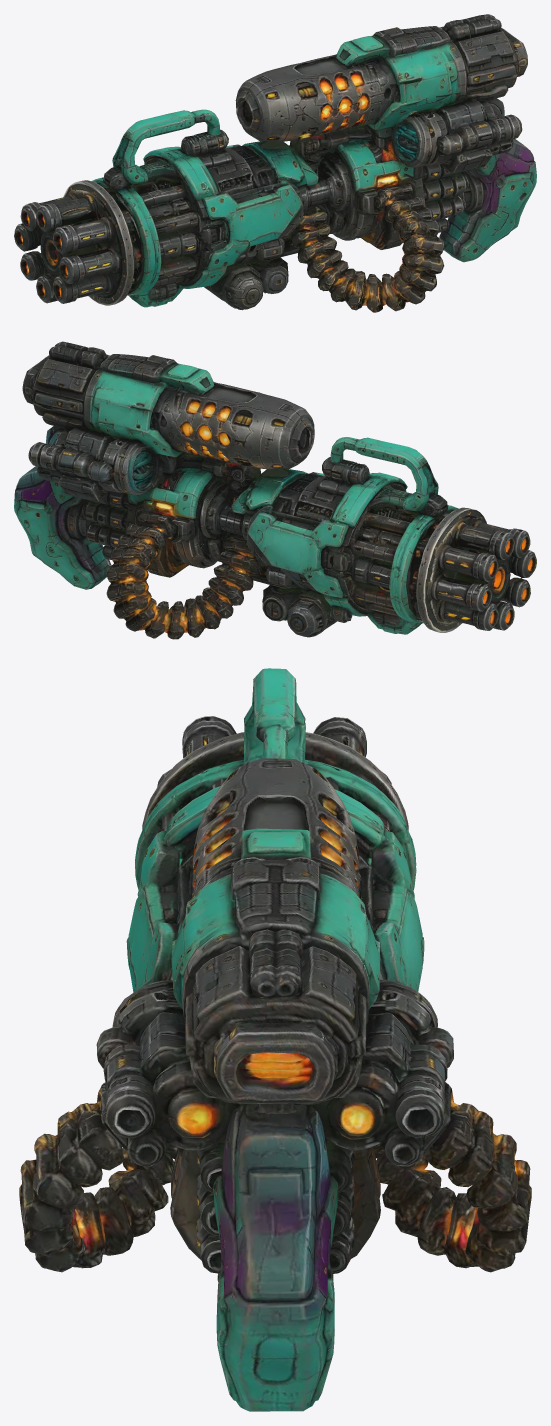
The model's file is weapon-thunderclaw.glb.
The picture shows the model from 3 angles, top to bottom: view 1: azimuth 30°, elevation 25°; view 2: azimuth 150°, elevation 25°; view 3: azimuth 270°, elevation 25°; orthographic projection. The views are drawn at different scales.
Size of the model in its own units: 1.9 by 0.8804 by 0.8623.
1 material, 1 textured.
